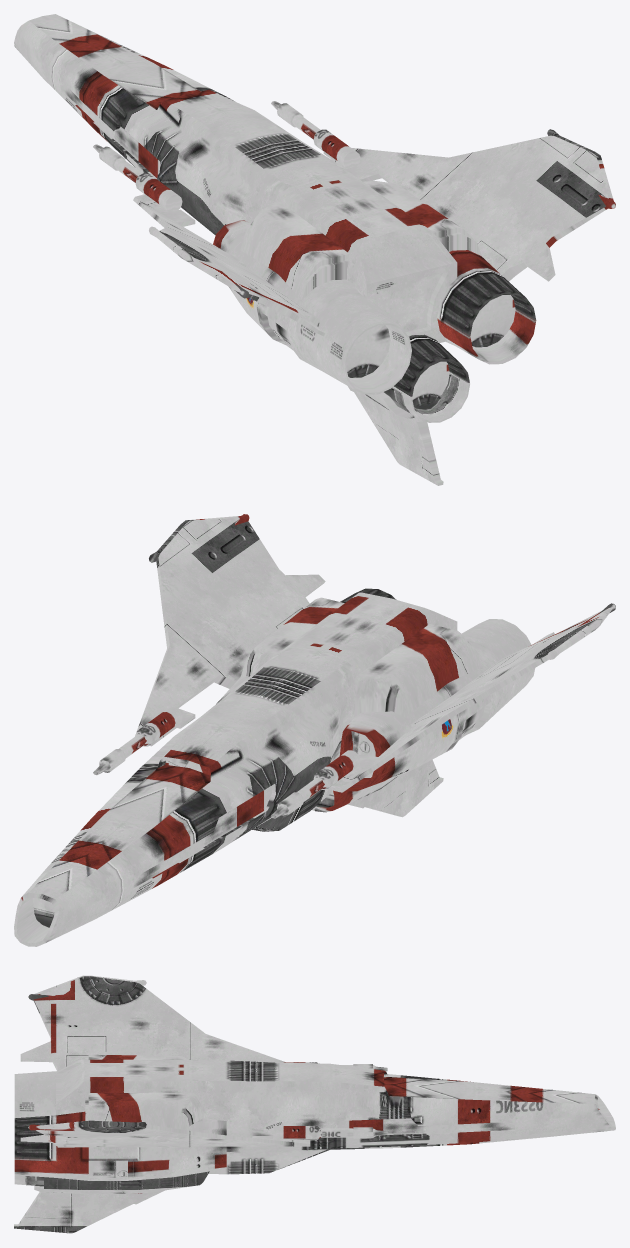
The model's file is Viper.fbx.
3 renders of one model, top to bottom at view 1: azimuth 30°, elevation 25°; view 2: azimuth 150°, elevation 25°; view 3: azimuth 270°, elevation 25°, orthographic. The views are drawn at different scales.
Visible parts, largest first — view 1: colmftr1co; view 2: colmftr1co; view 3: colmftr1co.
Part boxes in pixels (x1=…): colmftr1co: x1=14, y1=14, x2=615, y2=485; colmftr1co: x1=14, y1=514, x2=615, y2=946; colmftr1co: x1=14, y1=975, x2=615, y2=1233.
Size of the model in its own units: 52.06 by 30.24 by 89.65.
1 material, 1 textured.
